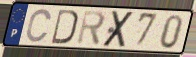0: (159, 14, 183, 50)
7: (135, 11, 161, 50)
C: (24, 8, 53, 44)
D: (50, 8, 79, 46)
R: (75, 9, 107, 48)
X: (100, 10, 136, 48)
